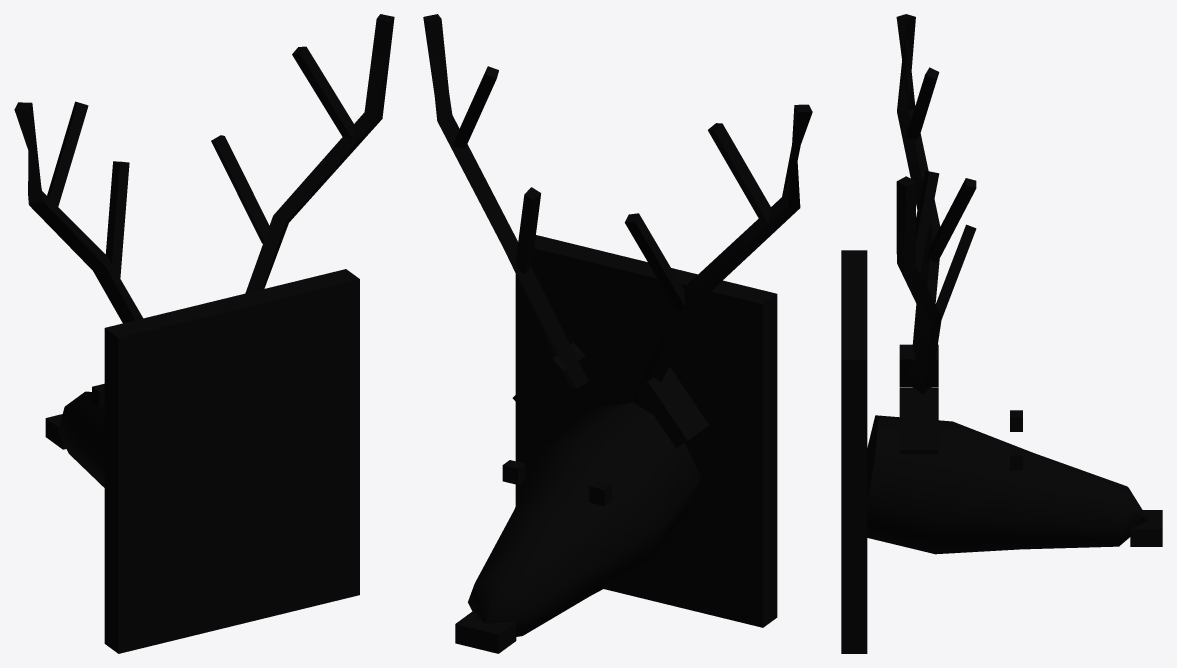
Rendered from SM_deer_head.fbx.
The picture shows the model from 3 angles, left to right: view 1: azimuth 30°, elevation 25°; view 2: azimuth 150°, elevation 25°; view 3: azimuth 270°, elevation 25°; orthographic projection. The views are drawn at different scales.
Parts seen in each view (by area): view 1: deer_head; view 2: deer_head; view 3: deer_head.
Boxes of the visible parts, x1,y1,x2,y2 form: deer_head: [14, 14, 394, 653]; deer_head: [423, 14, 812, 653]; deer_head: [841, 14, 1162, 653].
Bounding box in the file's own units: 0.6297 × 0.852 × 0.495.
